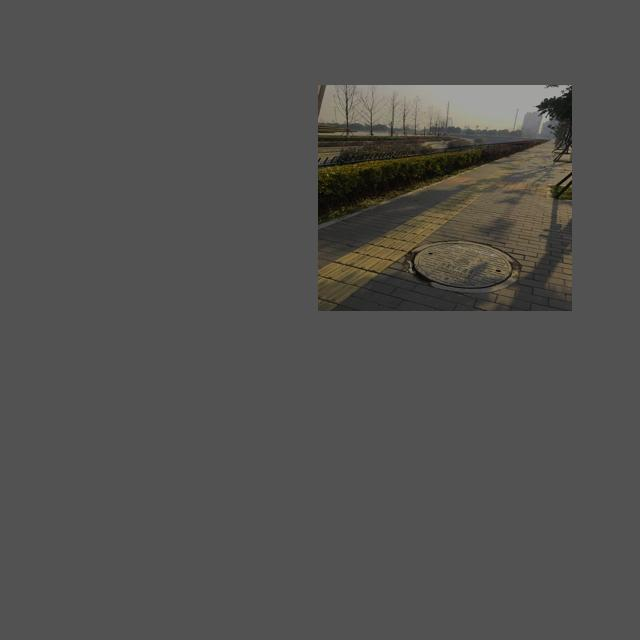circle: (403, 240, 522, 292)
